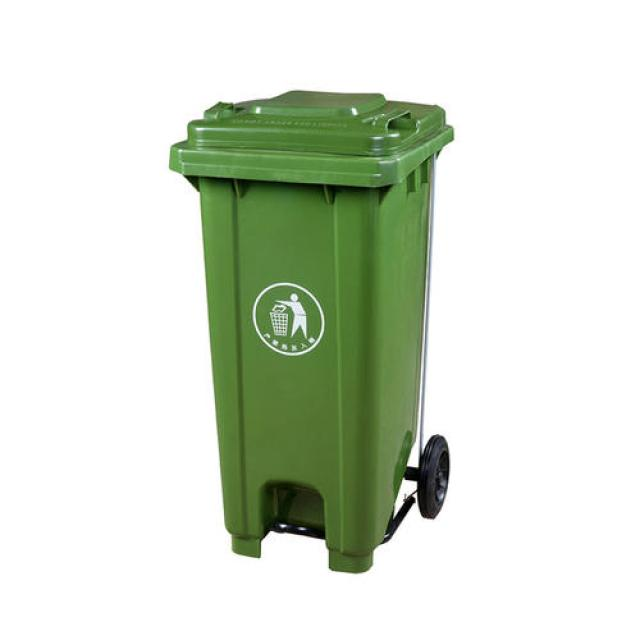garbage_bin: (168, 90, 454, 572)
